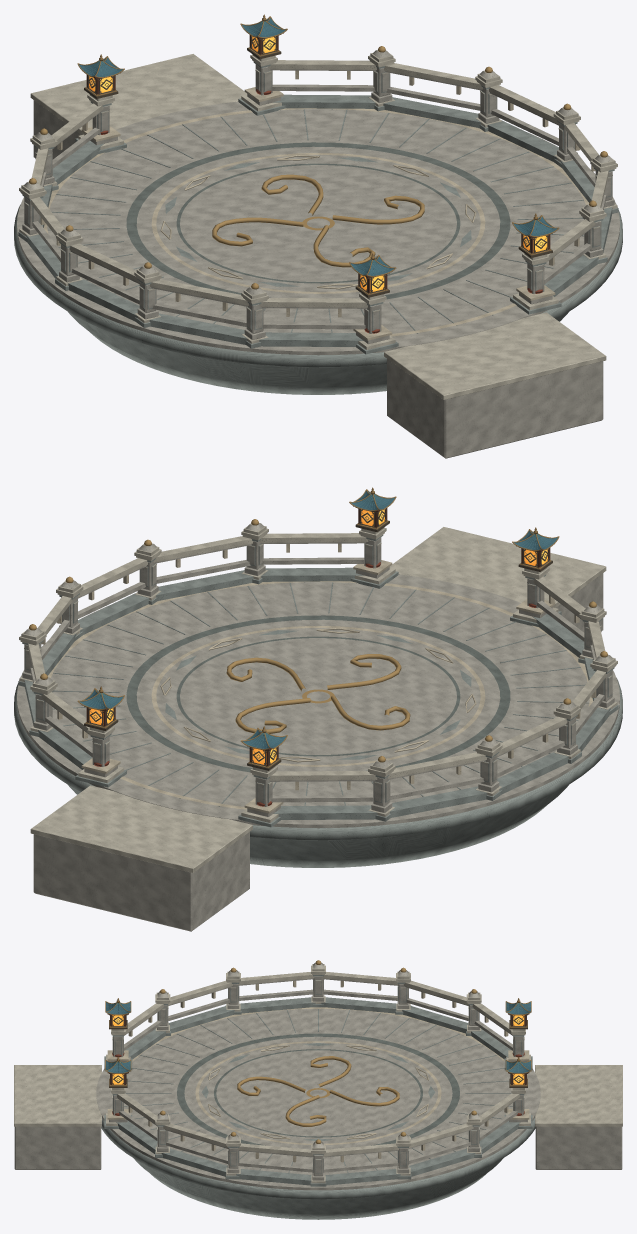
The picture shows the model from 3 angles, top to bottom: view 1: azimuth 30°, elevation 25°; view 2: azimuth 150°, elevation 25°; view 3: azimuth 270°, elevation 25°; orthographic projection. The views are drawn at different scales.
Visible parts, largest first — view 1: C05_stone, C05_light, C05_cool, C05_relief, C05_joint, C05_motif, C05_blue, C05_gold, C05_bronze, C05_paper, C05_teal; view 2: C05_stone, C05_light, C05_cool, C05_relief, C05_joint, C05_motif, C05_blue, C05_gold, C05_bronze, C05_paper, C05_teal; view 3: C05_stone, C05_cool, C05_light, C05_relief, C05_joint, C05_motif, C05_blue, C05_gold, C05_bronze, C05_teal, C05_paper.
Part boxes in pixels (left/top/right/bottom): C05_stone: left=17, top=50, right=619, bottom=458; C05_light: left=19, top=53, right=617, bottom=399; C05_cool: left=14, top=62, right=622, bottom=394; C05_relief: left=40, top=70, right=595, bottom=340; C05_joint: left=126, top=142, right=510, bottom=299; C05_motif: left=29, top=46, right=607, bottom=289; C05_blue: left=79, top=18, right=557, bottom=275; C05_gold: left=77, top=14, right=559, bottom=294; C05_bronze: left=84, top=34, right=552, bottom=297; C05_paper: left=89, top=36, right=547, bottom=291; C05_teal: left=81, top=20, right=551, bottom=275; C05_stone: left=17, top=523, right=619, bottom=931; C05_light: left=19, top=526, right=617, bottom=872; C05_cool: left=14, top=535, right=622, bottom=867; C05_relief: left=41, top=543, right=596, bottom=813; C05_joint: left=126, top=615, right=510, bottom=772; C05_motif: left=29, top=519, right=607, bottom=762; C05_blue: left=79, top=491, right=557, bottom=748; C05_gold: left=77, top=487, right=559, bottom=767; C05_bronze: left=84, top=507, right=552, bottom=770; C05_paper: left=89, top=509, right=547, bottom=764; C05_teal: left=82, top=493, right=553, bottom=748; C05_stone: left=14, top=962, right=622, bottom=1190; C05_cool: left=101, top=975, right=535, bottom=1219; C05_light: left=14, top=964, right=622, bottom=1183; C05_relief: left=107, top=981, right=529, bottom=1162; C05_joint: left=177, top=1033, right=459, bottom=1145; C05_motif: left=160, top=960, right=476, bottom=1143; C05_blue: left=106, top=1002, right=530, bottom=1072; C05_gold: left=105, top=998, right=531, bottom=1086; C05_bronze: left=109, top=1014, right=527, bottom=1087; C05_teal: left=106, top=1002, right=530, bottom=1072; C05_paper: left=112, top=1015, right=524, bottom=1084.
Size of the model in its own units: 10.3 by 2.91 by 13.97.
13 materials, 6 textured.
